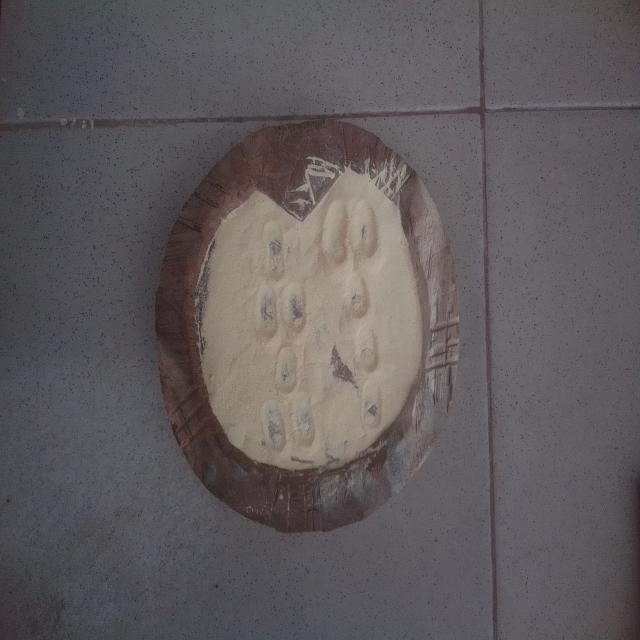double: (321, 194, 380, 265), (259, 393, 317, 456), (253, 279, 310, 339)
single: (258, 217, 289, 280), (358, 378, 386, 433), (342, 272, 373, 320), (274, 343, 300, 398), (354, 324, 379, 376)
